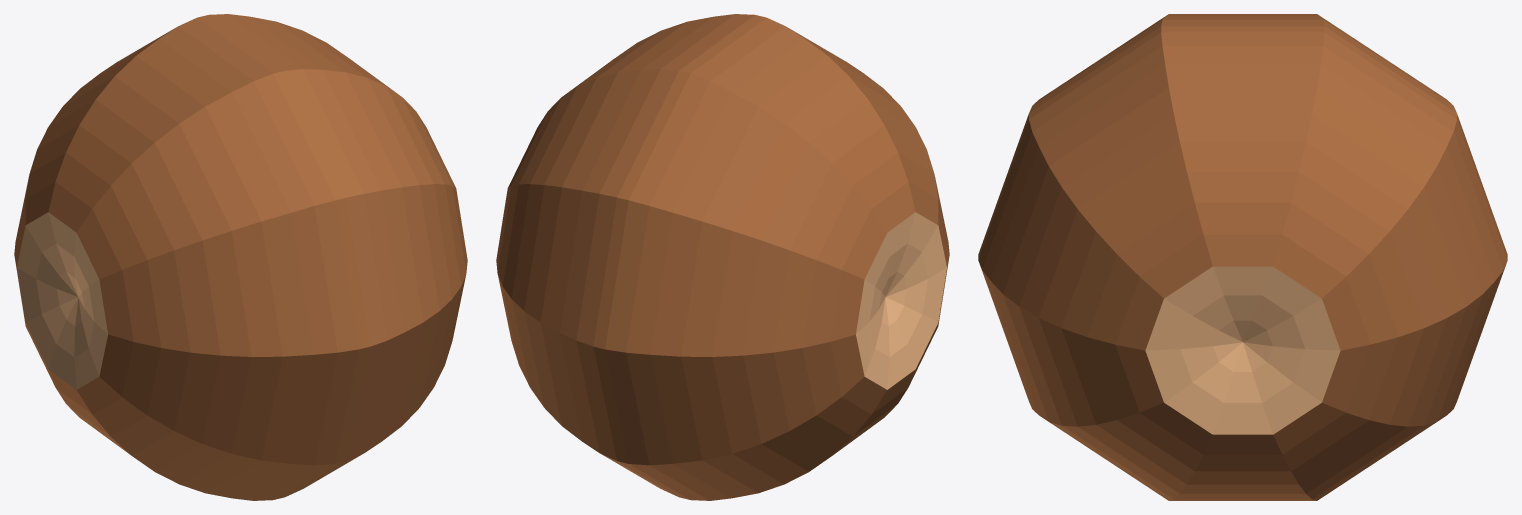
The model's file is tatu_elipse (1).fbx.
3 views of the same model, side by side, from view 1: azimuth 30°, elevation 25°; view 2: azimuth 150°, elevation 25°; view 3: azimuth 270°, elevation 25° (orthographic). The views are drawn at different scales.
Visible parts, largest first — view 1: Sphere.004; view 2: Sphere.004; view 3: Sphere.004.
Part boxes in pixels (<box>): Sphere.004: <box>14,14,467,500</box>; Sphere.004: <box>496,14,949,500</box>; Sphere.004: <box>978,14,1507,500</box>.
Size of the model in its own units: 166 by 190 by 200.
